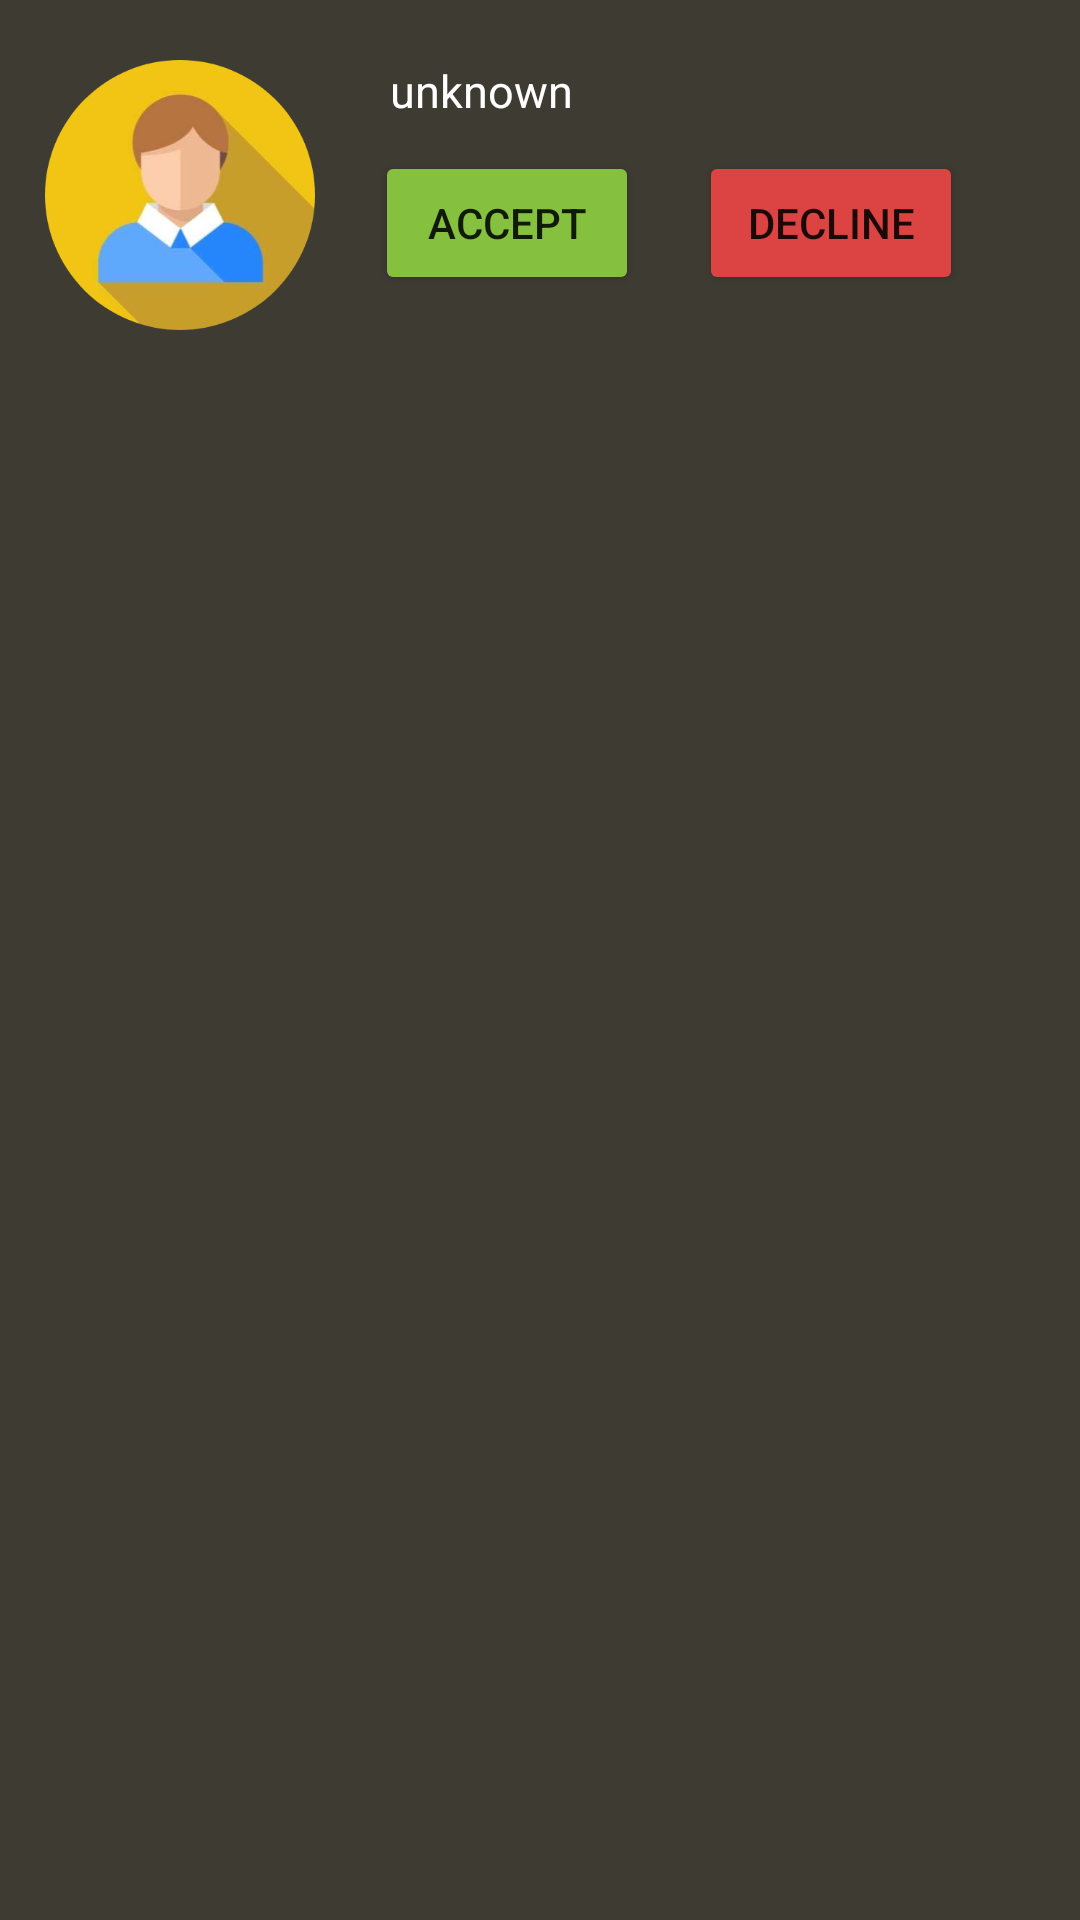

Where icons sit on this 1080 x 1920 app screen, as BBox(x1, y1, x2, y2):
facecircle: BBox(45, 60, 315, 330)
